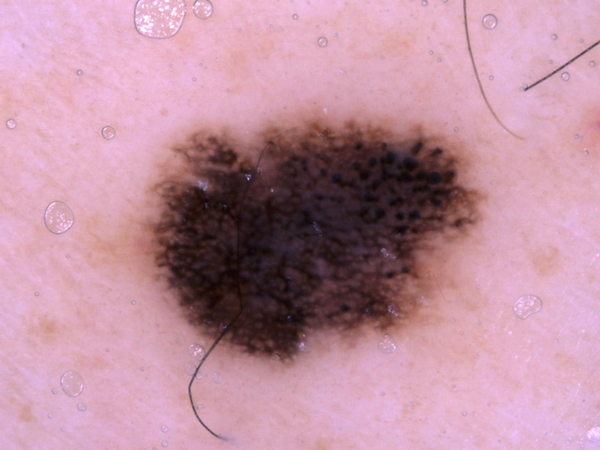Detected Lesion: (147, 115, 485, 368)
